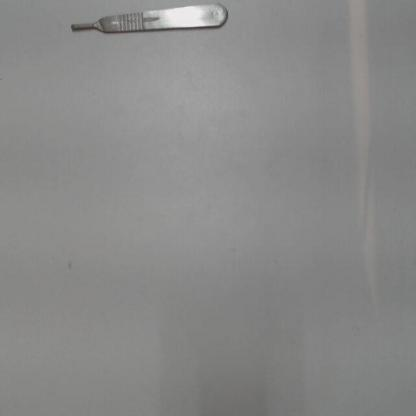No.3 BP Handle: (67, 5, 232, 48)
